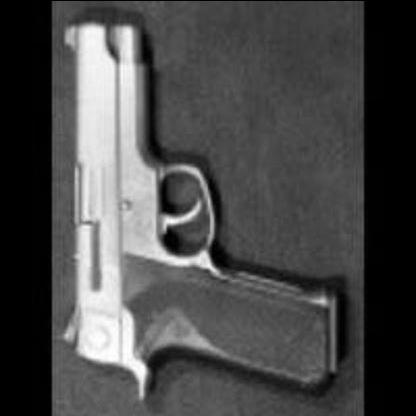weapon: (58, 8, 355, 409)
